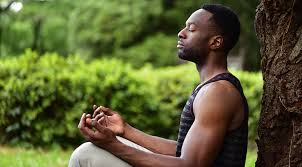s.black: (188, 34, 208, 51)
